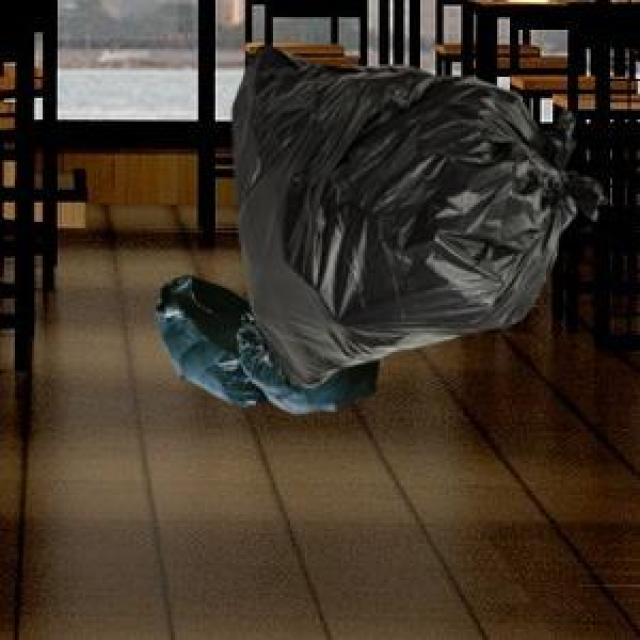Vinyl: (158, 50, 602, 413)
